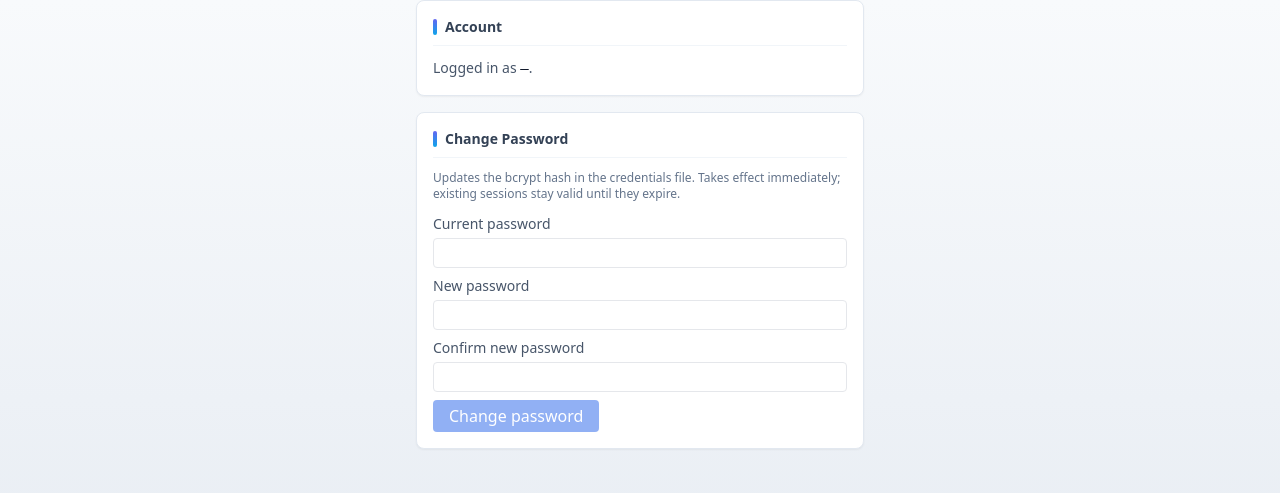
Test: Account page › renders the server error inline when old password is wrong
Type "wrong" into the password field labelled "Current password".
click(640, 253); type("wrong")  # box [433,238,847,268]
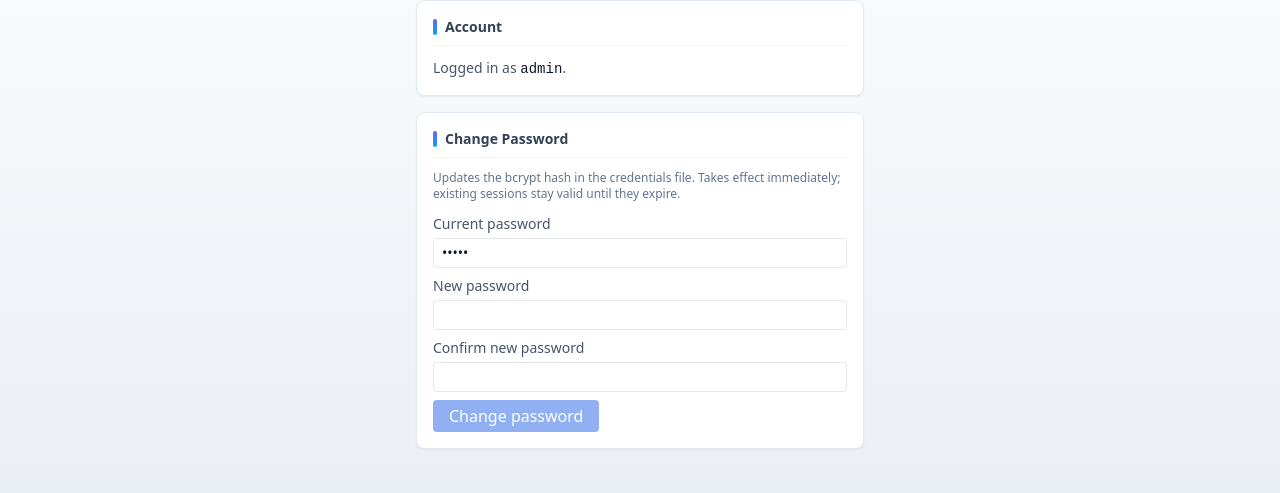
Type "newpw1" into the password field labelled "New password".
click(640, 315); type("newpw1")  # box [433,300,847,330]
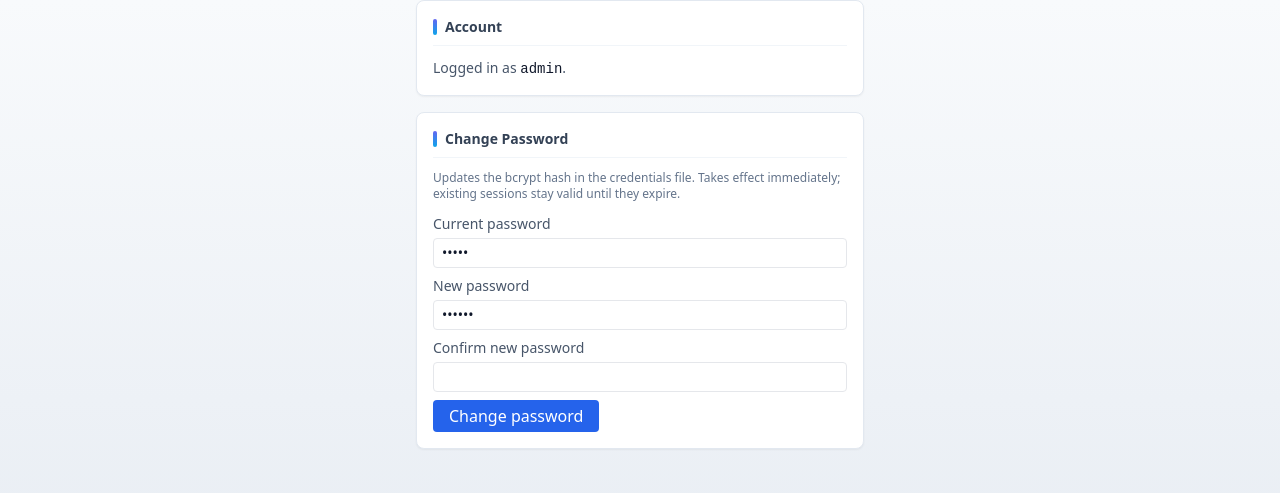
Type "newpw1" into the password field labelled "Confirm new password".
click(640, 377); type("newpw1")  # box [433,362,847,392]
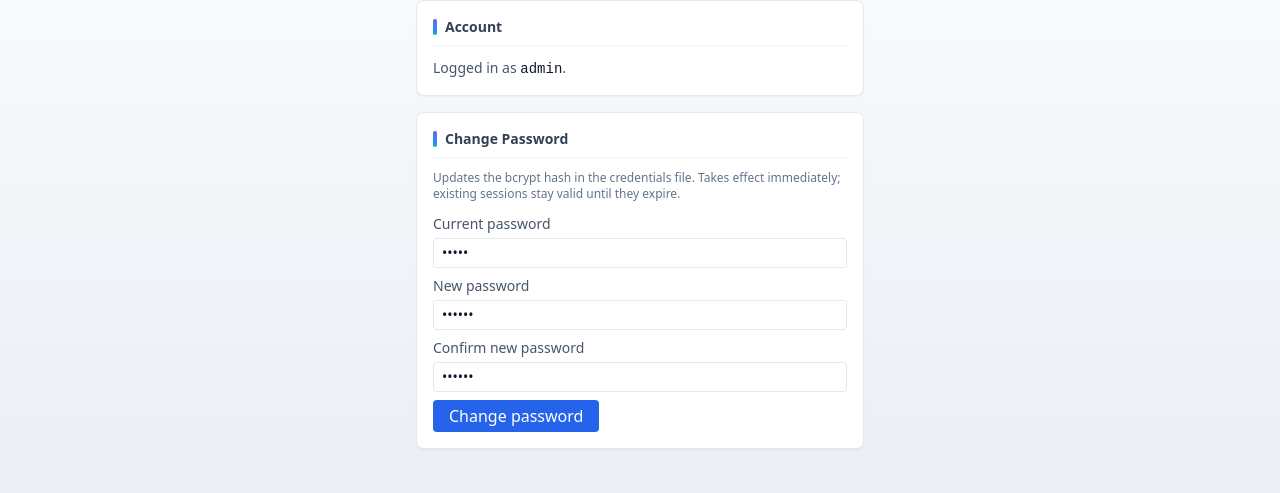
Click the button "Change password".
click(516, 416)  # box [433,400,599,432]
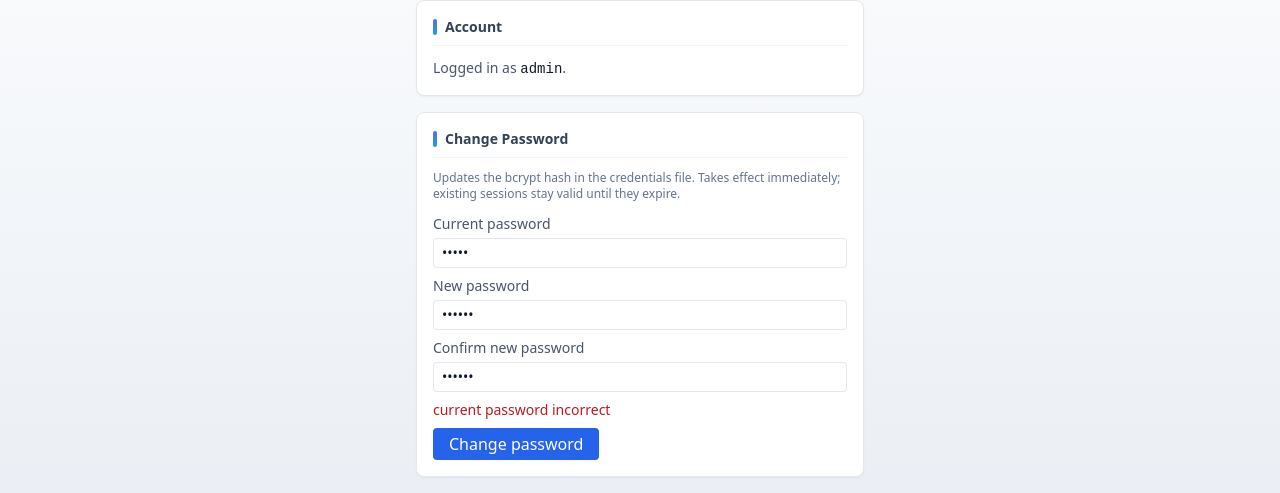
Expected: the text "current password incorrect" is shown, [433,400,610,419]
